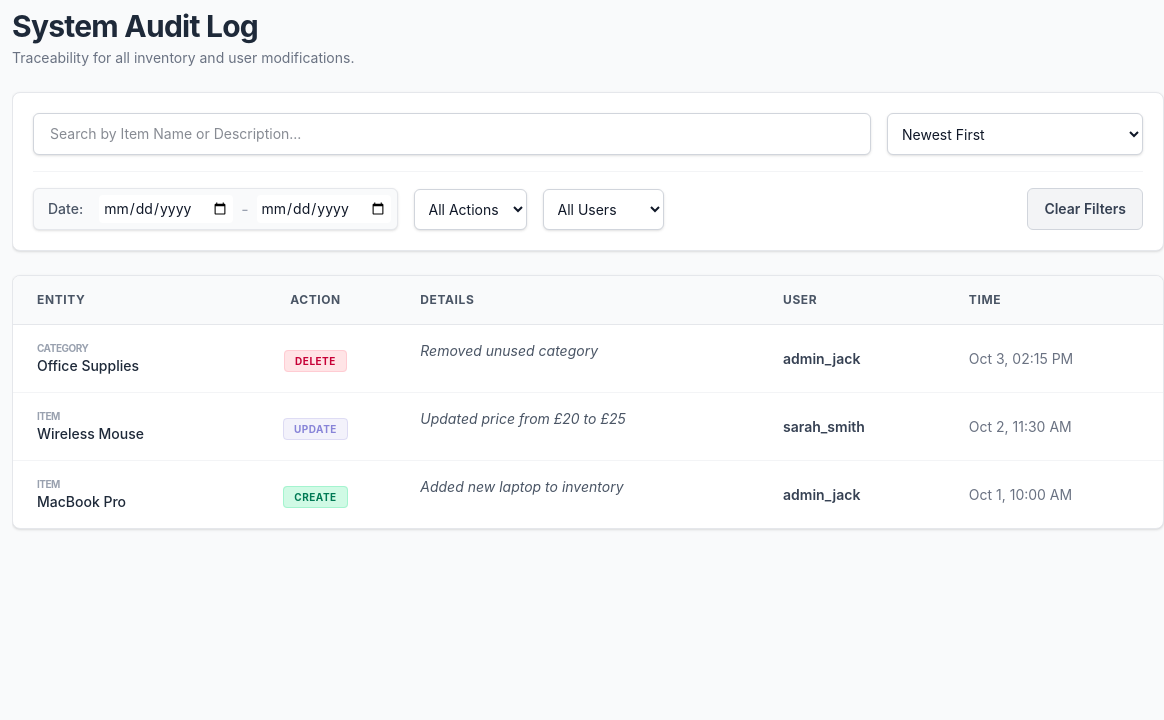
Test case: AuditLog Page › filters logs correctly when typing in the search bar
The width and height of the screenshot is (1164, 720).
expect the text "MacBook Pro" is shown: met, box [37,493,126,510]
# Find the search input and type "Mouse"
Type "Mouse" into the field with placeholder "Search by Item Name or Description..." at (452, 134), box [33,113,871,155]
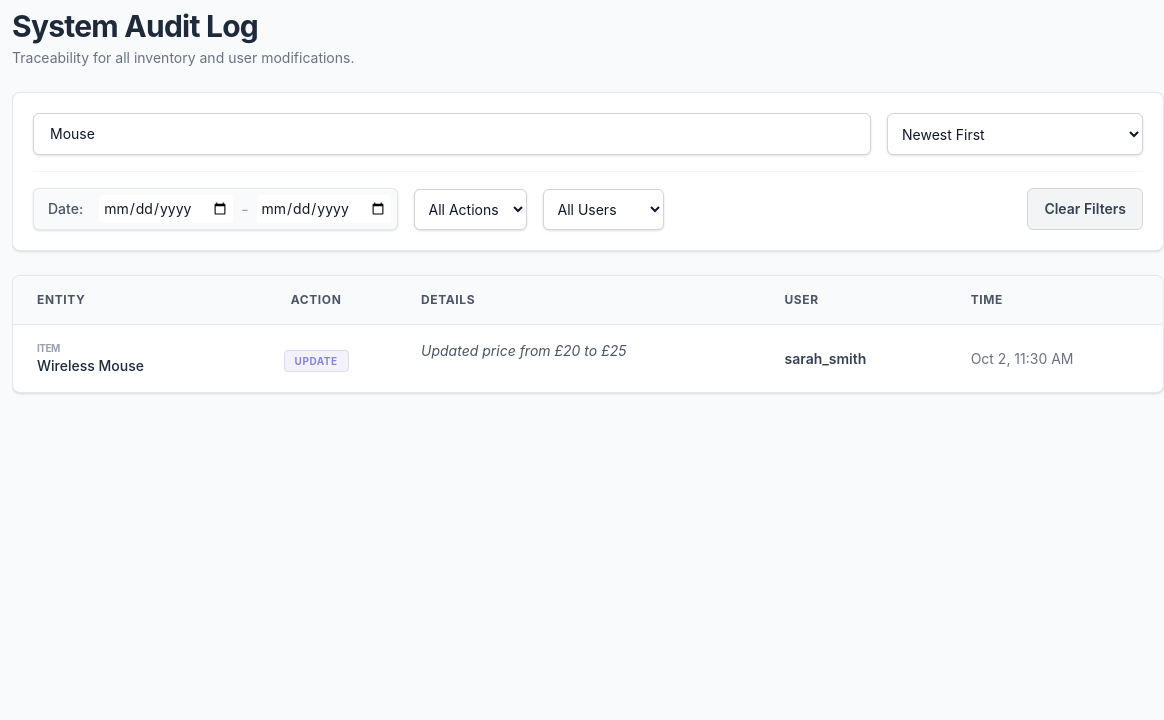
expect the text "Wireless Mouse" is shown: met, box [37,357,144,374]
expect the text "MacBook Pro" is gone: met
